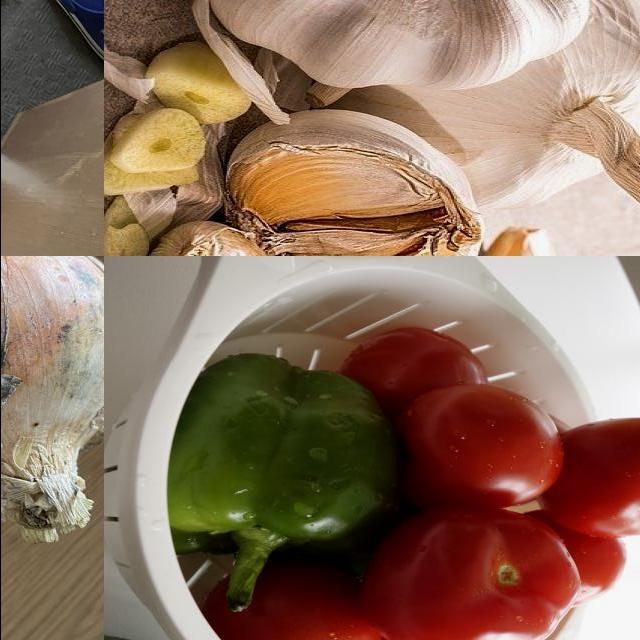bell_pepper: (135, 356, 402, 614)
garlic: (339, 1, 640, 229), (109, 110, 506, 257), (199, 1, 590, 84)
onion: (1, 257, 104, 544)
tomato: (364, 514, 580, 640), (405, 381, 565, 508), (214, 553, 382, 640), (348, 329, 486, 421), (552, 416, 640, 541), (550, 538, 630, 608)
